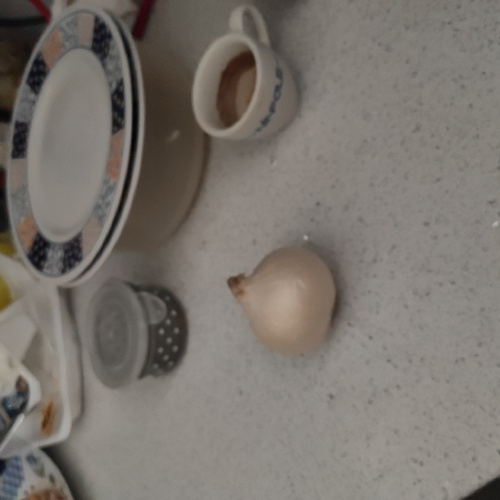cipolla: (225, 241, 342, 362)
